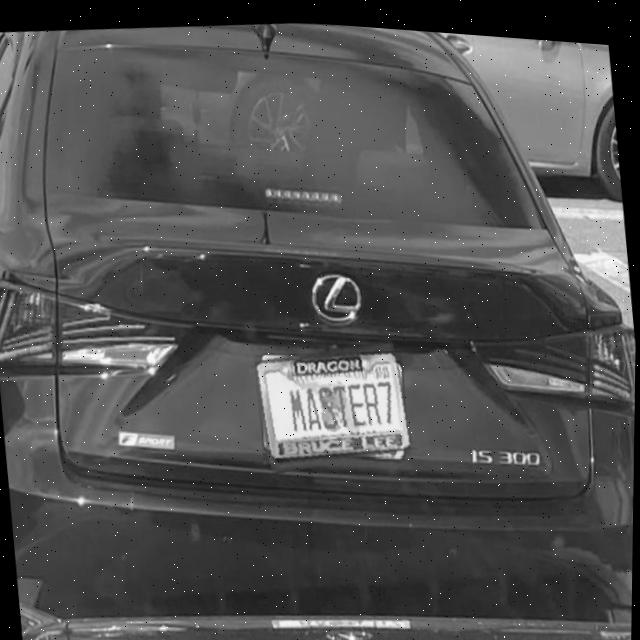LicensePlate: (255, 345, 411, 456)
